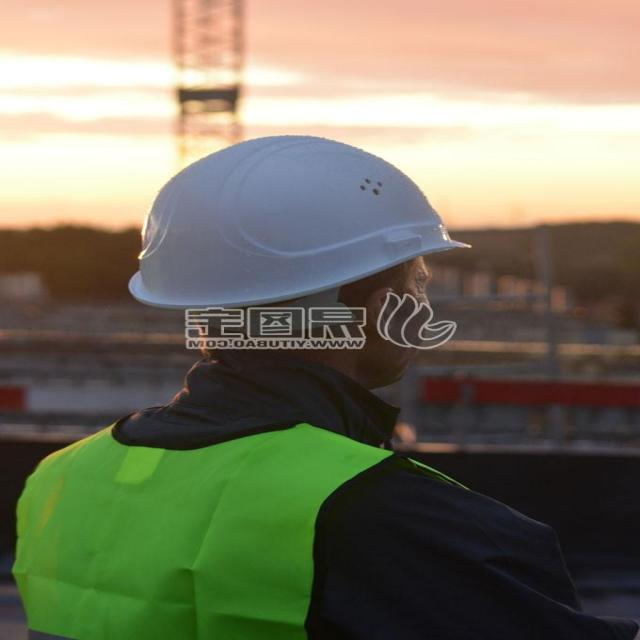Reflective-Jacket: (4, 412, 457, 636)
Safety-Helmet: (121, 135, 467, 310)
